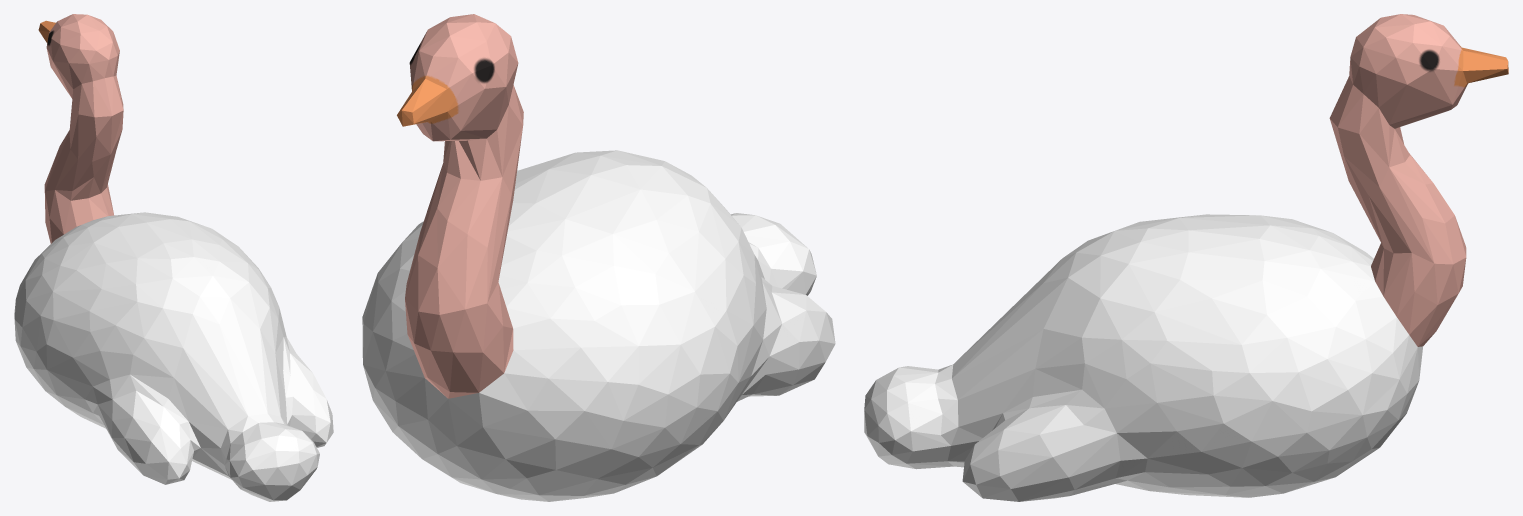
The model's file is animal_ostrich_blob.obj.
3 renders of one model, left to right at view 1: azimuth 30°, elevation 25°; view 2: azimuth 150°, elevation 25°; view 3: azimuth 270°, elevation 25°, orthographic. The views are drawn at different scales.
Visible parts, largest first — view 1: animal_ostrich_blob; view 2: animal_ostrich_blob; view 3: animal_ostrich_blob.
Part boxes in pixels (x1,y1,x2,y2): animal_ostrich_blob: (14,14,333,501); animal_ostrich_blob: (362,14,835,501); animal_ostrich_blob: (864,14,1508,501).
Bounding box in the file's own units: 0.6775 × 1.01 × 1.29.
